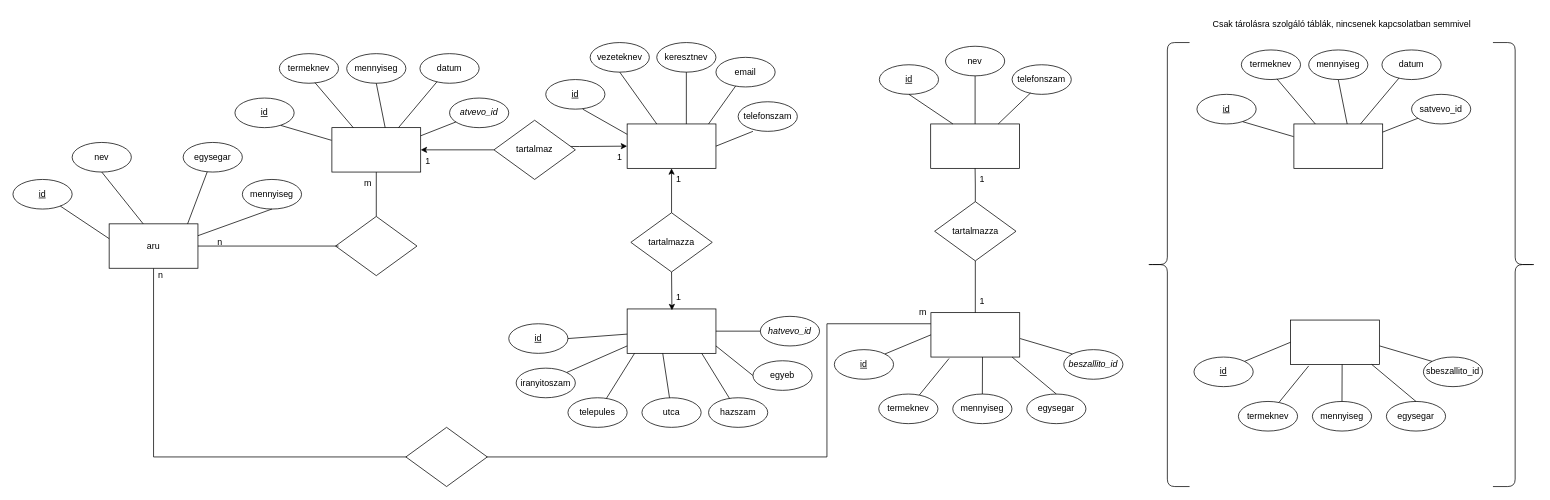
Image size: 1550x500. Some labels were removed from this diagram. Each missing label, with the box of its shape:
atvevo: (626, 123, 716, 168)
behozatal: (930, 312, 1020, 357)
beszallito: (930, 123, 1019, 168)
helyszin: (626, 308, 716, 353)
kiadas: (331, 127, 421, 172)
stored_behozatal: (1290, 319, 1379, 364)
stored_kiadas: (1293, 123, 1383, 168)
Árut behoz: (405, 427, 487, 487)
Árut kiad: (335, 216, 417, 276)
